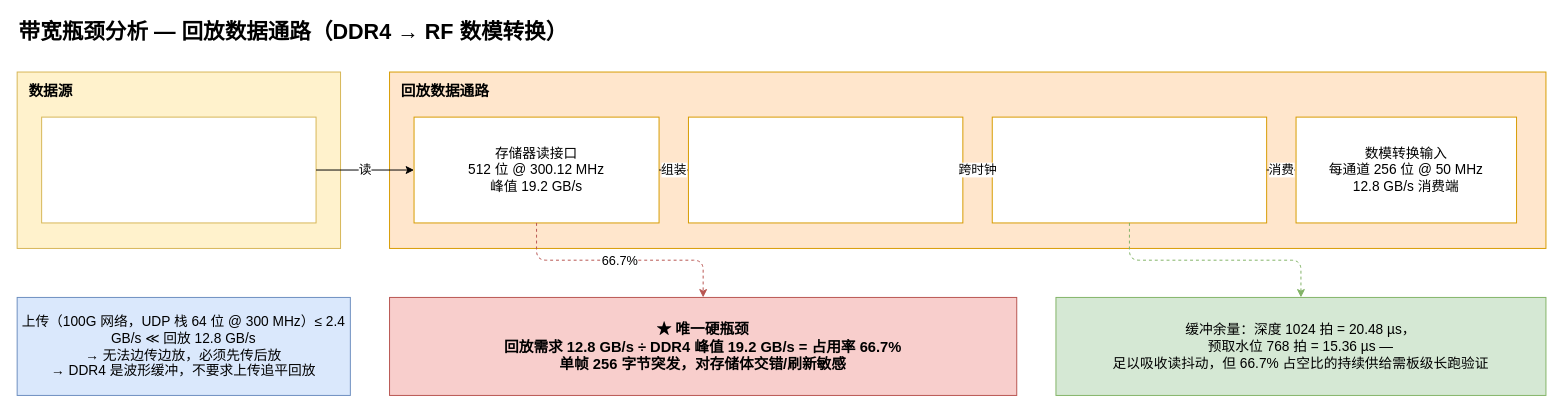
This 1563x413 diagram has some shape labels left out. Here are the shapes that lost their labels. From the top down, the centre of each, then its label:
At (178,169): "DDR4 存储总线 64 位 @ 2400 MT/s 峰值 19.2 GB/s".
At (825,169): "8 通道波形帧 2048 位 @ 300.12 MHz 上限 76.8 GB/s（非瓶颈）".
At (1129,169): "8 通道跨时钟缓冲 每通道 256 位 · 300M → 50M 12.8 GB/s（消费率）".
